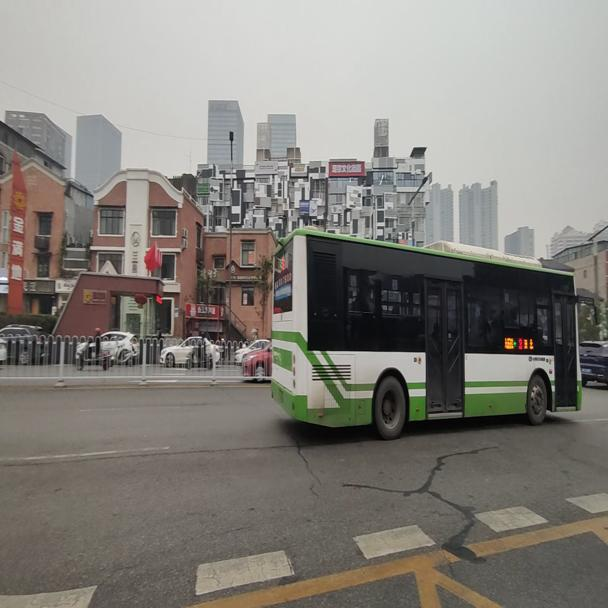bus: (266, 229, 586, 437)
screen: (515, 335, 524, 352)
